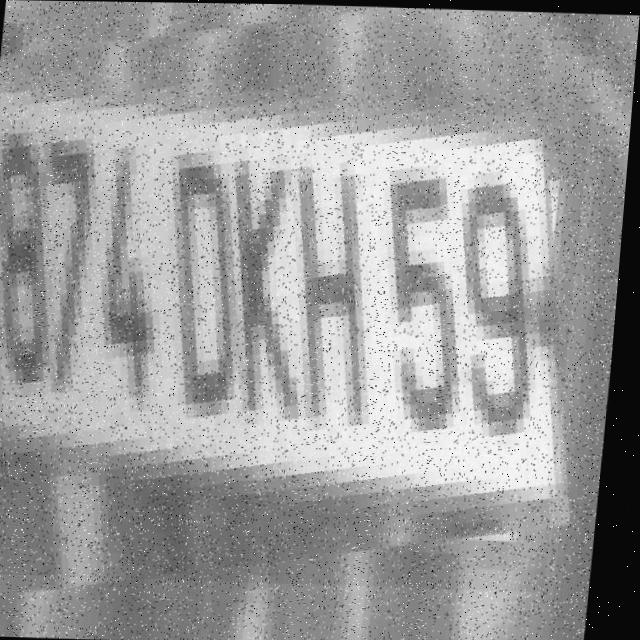LicensePlate: (0, 0, 600, 589)
